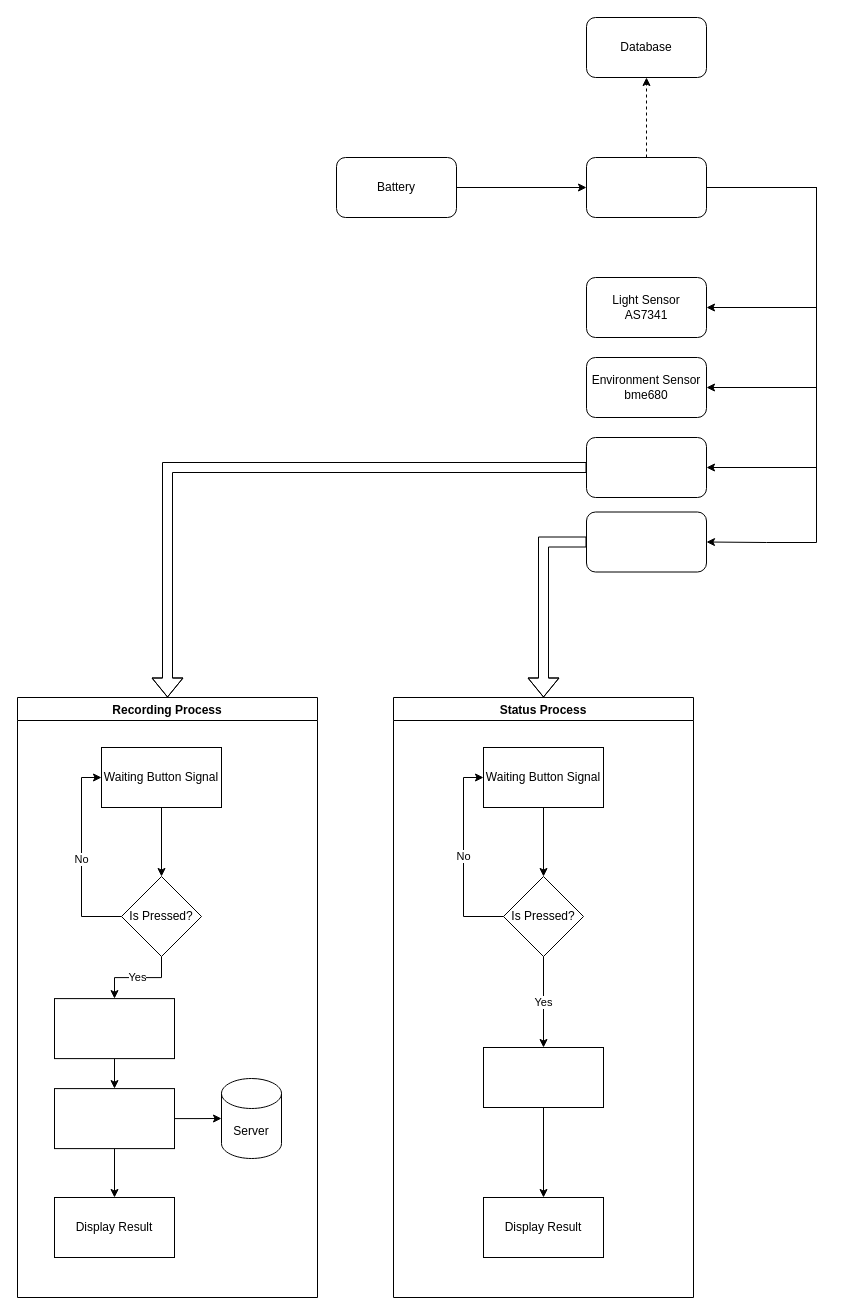
Image size: 842x1315. Some labels were removed from this diagram. The shapes that lost their labels are listed below. From the top down, each one's centre as x and y in pixels, then its label:
point 646,187: MCU(LoRa)
point 646,467: Recording Button
point 646,541: Status Button
point 114,1028: Get Time & Sensor Data
point 543,1077: Get Sensor Data
point 114,1118: Append to Database
